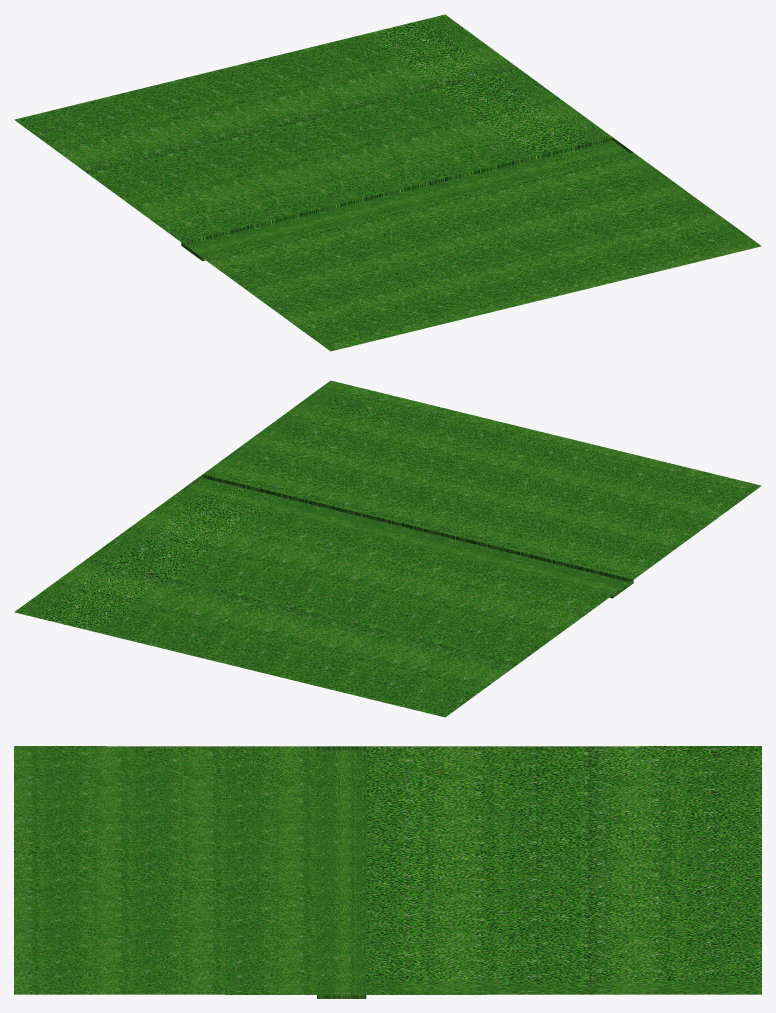
Rendered from Terreno2.obj.
3 renders of one model, top to bottom at view 1: azimuth 30°, elevation 25°; view 2: azimuth 150°, elevation 25°; view 3: azimuth 270°, elevation 25°, orthographic. The views are drawn at different scales.
Visible parts, largest first — view 1: Terreno; view 2: Terreno; view 3: Terreno.
Boxes of the visible parts, x1,y1,x2,y2 form: Terreno: (14,14,761,351); Terreno: (14,380,761,717); Terreno: (14,746,761,998).
Size of the model in its own units: 500 by 3.99 by 636.
1 material, 1 textured.
